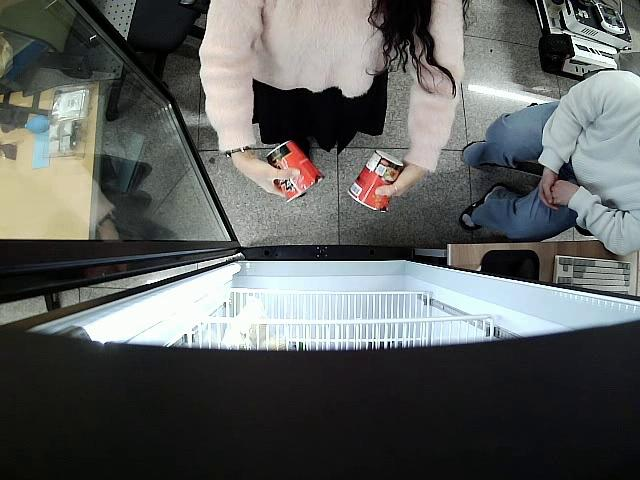00_hand: (237, 154, 301, 199), (375, 164, 422, 207)
02_shinRamen_S: (263, 140, 325, 205), (346, 149, 404, 216)
